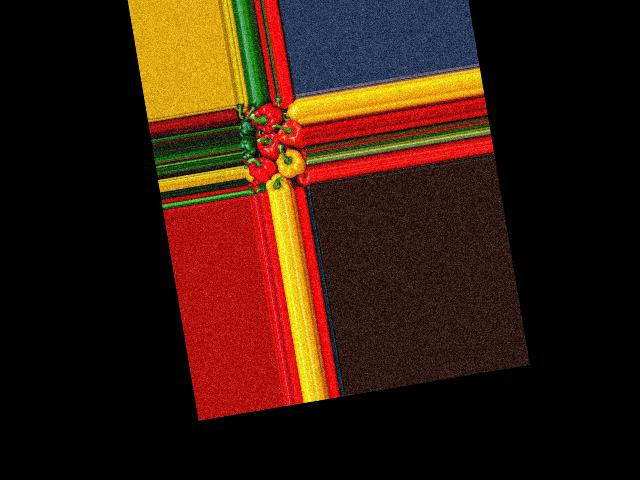bell_pepper: (285, 102, 300, 120)
